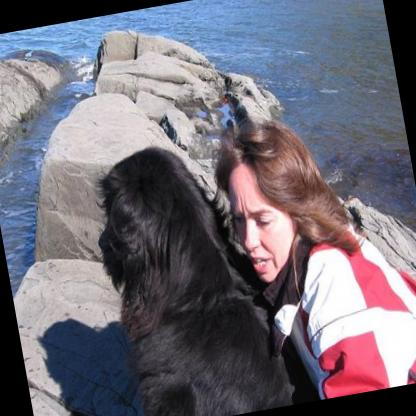Newfoundland: (76, 126, 297, 416)
